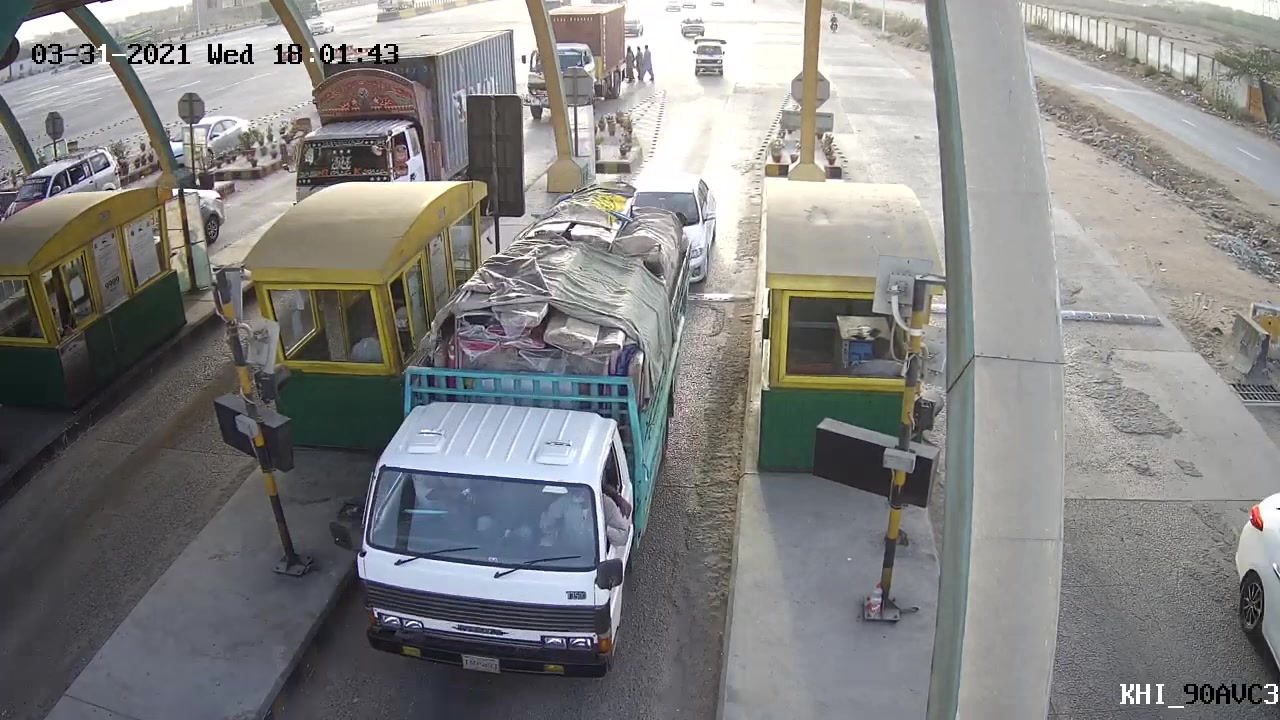F3: (326, 183, 697, 692)
